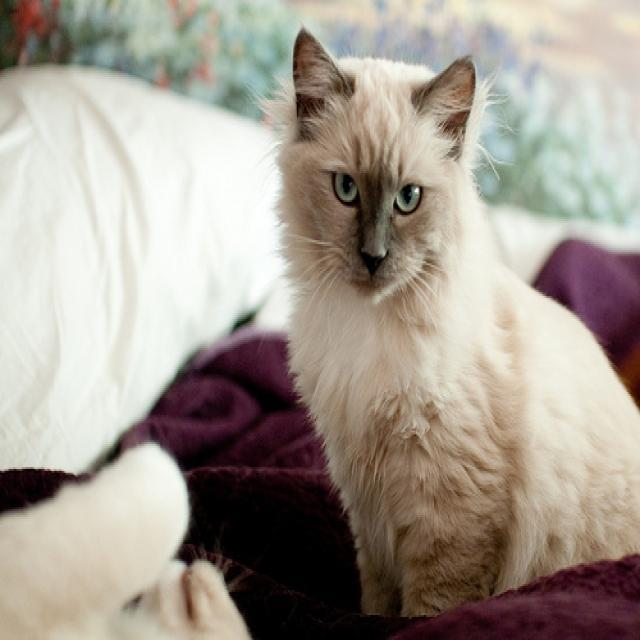Ragdoll: (253, 21, 487, 308)
